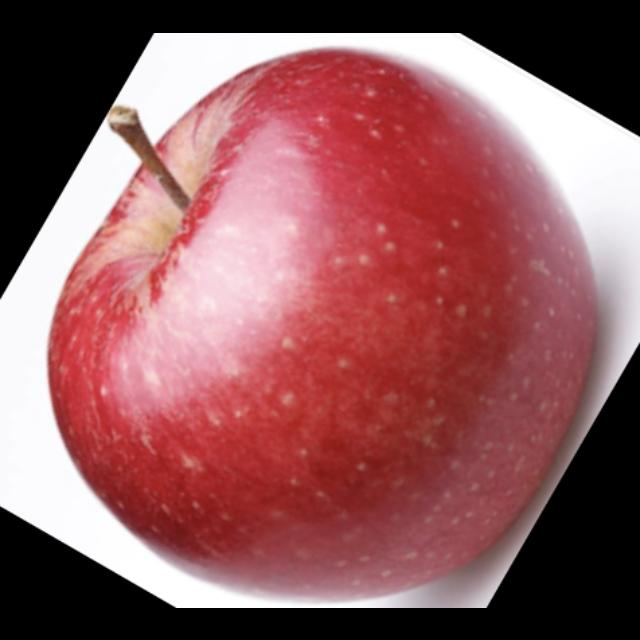Apel Segar: (39, 80, 621, 566)
